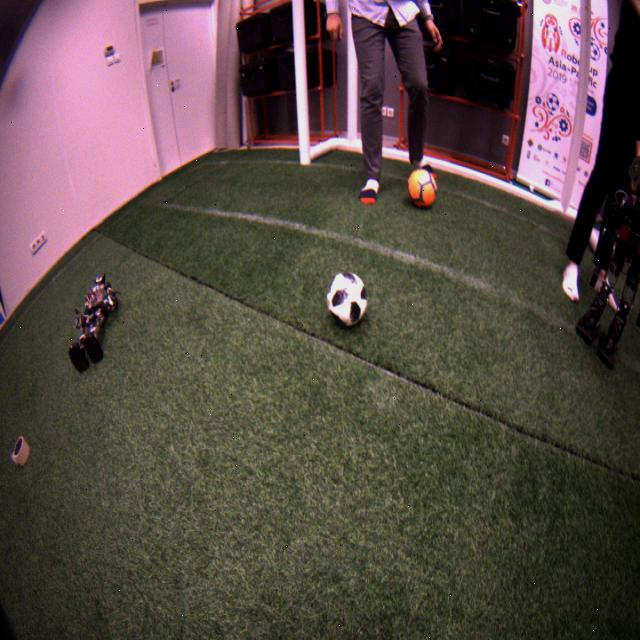ball: (325, 270, 369, 329), (408, 168, 437, 209)
goalpost: (293, 2, 309, 164)
